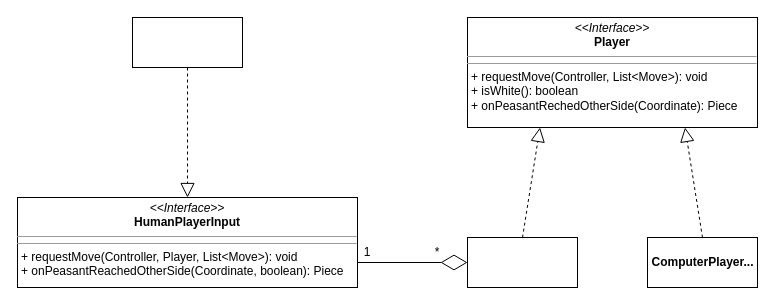
Some shapes in this 775 by 306 pixel diagram are drawn without their labels. Here are the shapes that lost their labels. From the top down, the centre of each, then its label:
(187,42): View
(522,262): HumanPlayer
